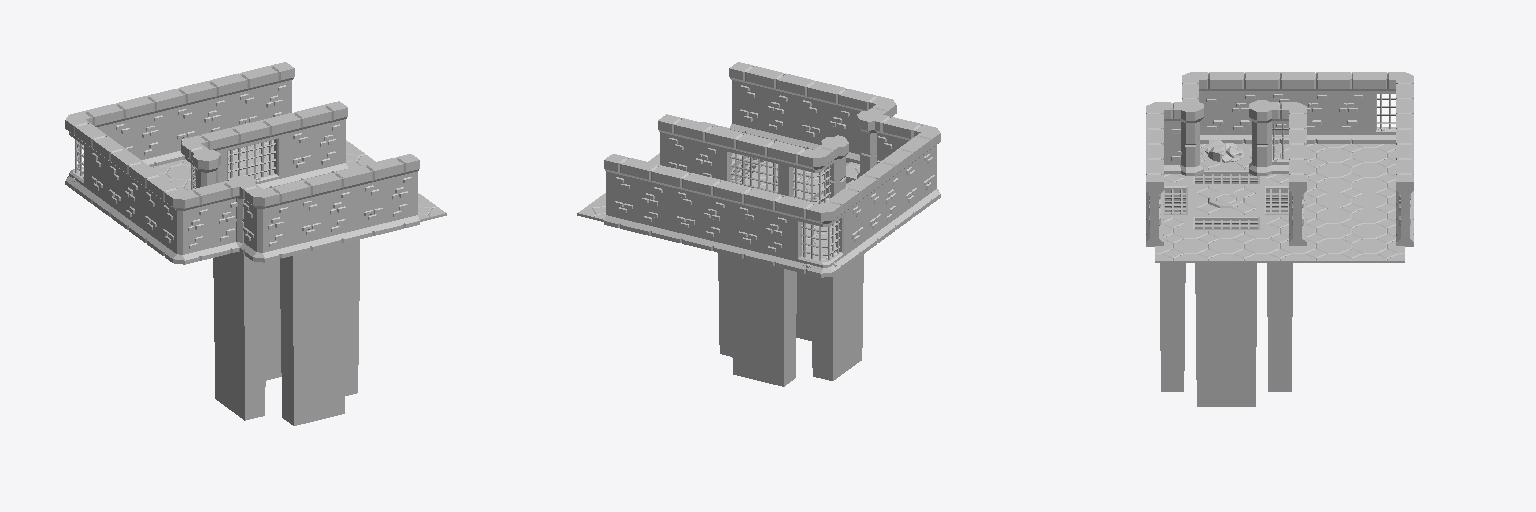
Rendered from MenuBackdrop.obj.
3 renders of one model, left to right at view 1: azimuth 30°, elevation 25°; view 2: azimuth 150°, elevation 25°; view 3: azimuth 270°, elevation 25°, orthographic.
Parts seen in each view (by area): view 1: floor_tile_extralarge_grates_open, wall, wall.001, wall.003, wall_corner.002, wall_corner, wall.006, wall.005, wall.004, wall_gated, wall.002, wall_corner_gated.001 (+7 smaller); view 2: floor_tile_extralarge_grates_open, wall.005, wall.006, wall.004, wall.001, wall, wall_corner_gated.001, wall.003, wall.002, wall_gated, wall_corner_gated, wall_corner.002 (+6 smaller); view 3: floor_tile_extralarge_grates_open, wall.002, wall_half.002, floor_tile_large.005, floor_tile_large.006, wall_half.001, wall_corner.002, wall_corner_gated.001, floor_tile_large.004, floor_tile_large.003, floor_tile_large.001, wall.004 (+16 smaller).
Boxes of the visible parts, x1,y1,x2,y2 form: floor_tile_extralarge_grates_open: [213, 240, 359, 425]; wall: [288, 169, 357, 254]; wall.001: [349, 154, 419, 239]; wall.003: [278, 101, 347, 183]; wall_corner.002: [155, 182, 215, 264]; wall_corner: [235, 180, 295, 262]; wall.006: [100, 92, 170, 166]; wall.005: [162, 77, 232, 161]; wall.004: [225, 62, 294, 127]; wall_gated: [216, 116, 285, 188]; wall.002: [101, 142, 151, 236]; wall_corner_gated.001: [65, 107, 108, 196]; floor_tile_extralarge_grates_open: [718, 155, 863, 386]; wall.005: [666, 169, 735, 254]; wall.006: [728, 184, 797, 269]; wall.004: [604, 154, 674, 239]; wall.001: [729, 62, 798, 143]; wall: [791, 77, 861, 161]; wall_corner_gated.001: [790, 195, 850, 277]; wall.003: [658, 114, 727, 179]; wall.002: [854, 155, 904, 249]; wall_gated: [720, 129, 790, 194]; wall_corner_gated: [782, 143, 841, 203]; wall_corner.002: [897, 120, 940, 209]; floor_tile_extralarge_grates_open: [1160, 170, 1292, 406]; wall.002: [1262, 72, 1333, 143]; wall_half.002: [1334, 72, 1368, 143]; floor_tile_large.005: [1226, 231, 1297, 262]; floor_tile_large.006: [1155, 231, 1225, 262]; wall_half.001: [1226, 72, 1261, 143]; wall_corner.002: [1182, 72, 1225, 143]; wall_corner_gated.001: [1369, 72, 1413, 143]; floor_tile_large.004: [1298, 231, 1368, 262]; floor_tile_large.003: [1307, 200, 1368, 230]; floor_tile_large.001: [1334, 143, 1395, 170]; wall.004: [1396, 152, 1413, 246].
Size of the model in its own units: 16.5 by 14.98 by 15.